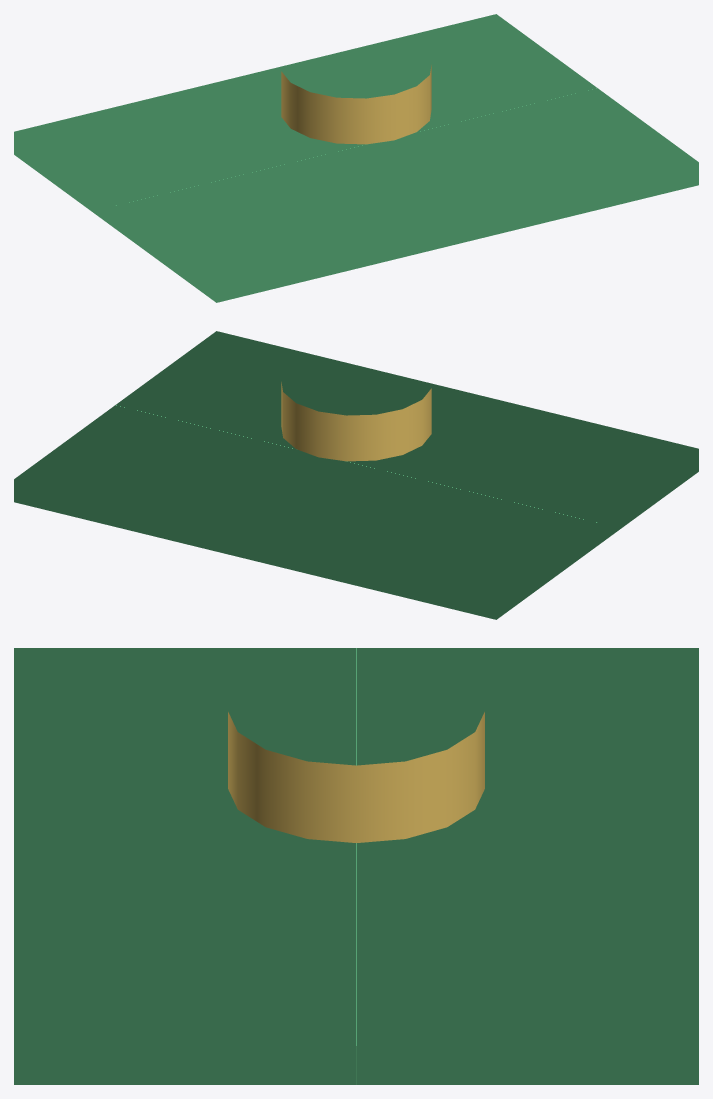
File: kirchhoffs_laws.glb
3 views of the same model, one above another, from view 1: azimuth 30°, elevation 25°; view 2: azimuth 150°, elevation 25°; view 3: azimuth 270°, elevation 25° (orthographic). The views are drawn at different scales.
Parts seen in each view (by area): view 1: BridgePCBBoard, GalvanometerHead; view 2: BridgePCBBoard, GalvanometerHead; view 3: BridgePCBBoard, GalvanometerHead.
Boxes of the visible parts, x1,y1,x2,y2 form: BridgePCBBoard: [14, 14, 698, 302]; GalvanometerHead: [281, 65, 431, 144]; BridgePCBBoard: [14, 331, 698, 619]; GalvanometerHead: [281, 382, 431, 461]; BridgePCBBoard: [14, 648, 698, 1084]; GalvanometerHead: [228, 712, 484, 842].
Size of the model in its own units: 2.2 by 0.45 by 1.6.
